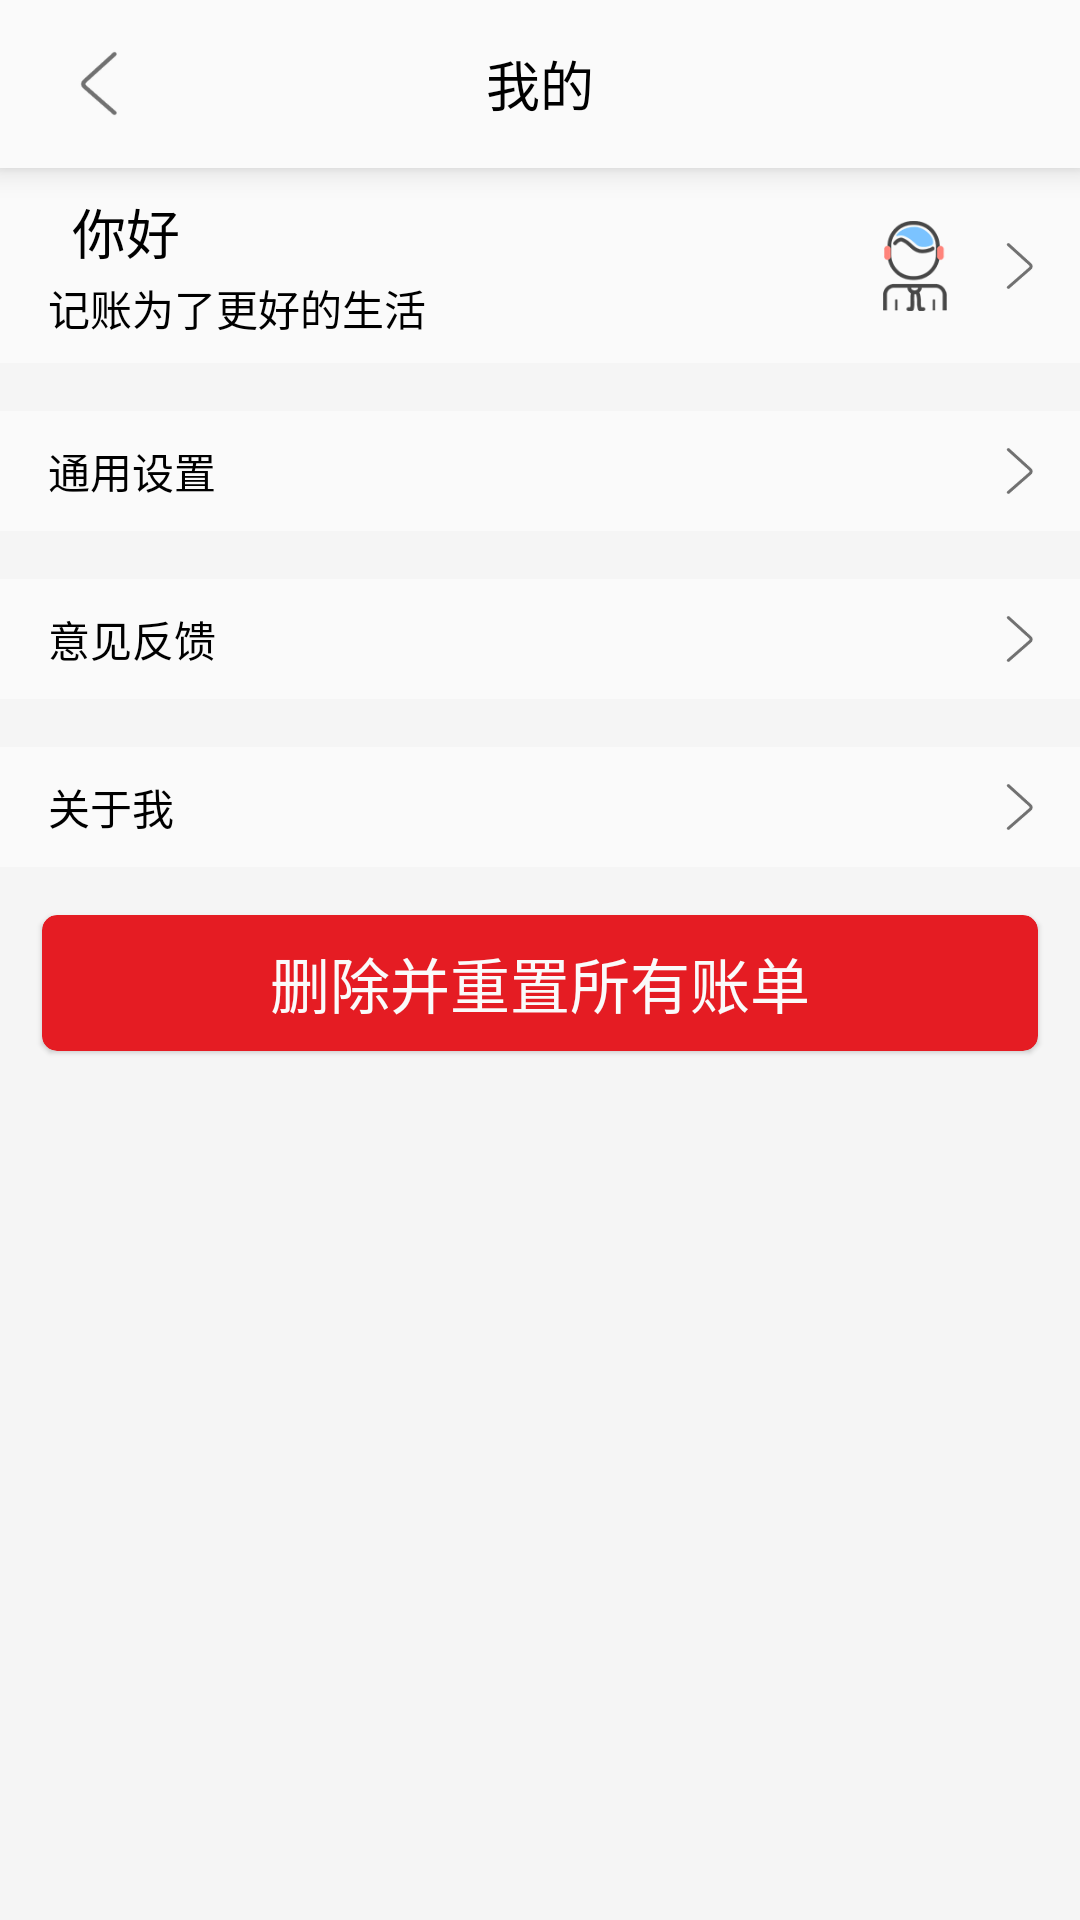

Icon click points for this 1080x1920 phone screenshot, format point (x, y):
account: point (915, 266)
back: point (99, 83)
more: point (1019, 266), point (1019, 471), point (1019, 639), point (1019, 807)
